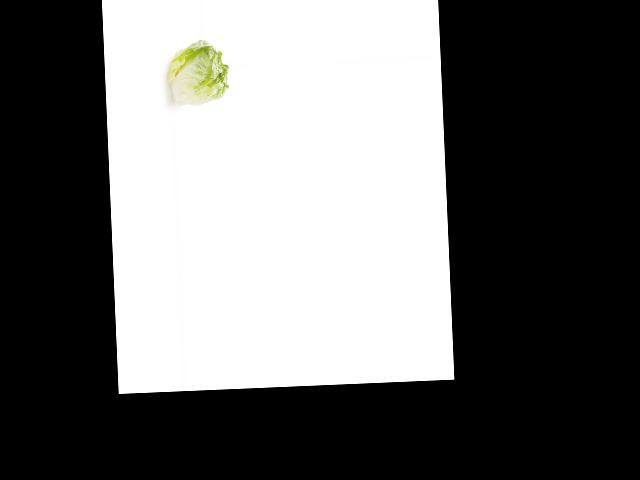lettuce: (167, 35, 232, 110)
